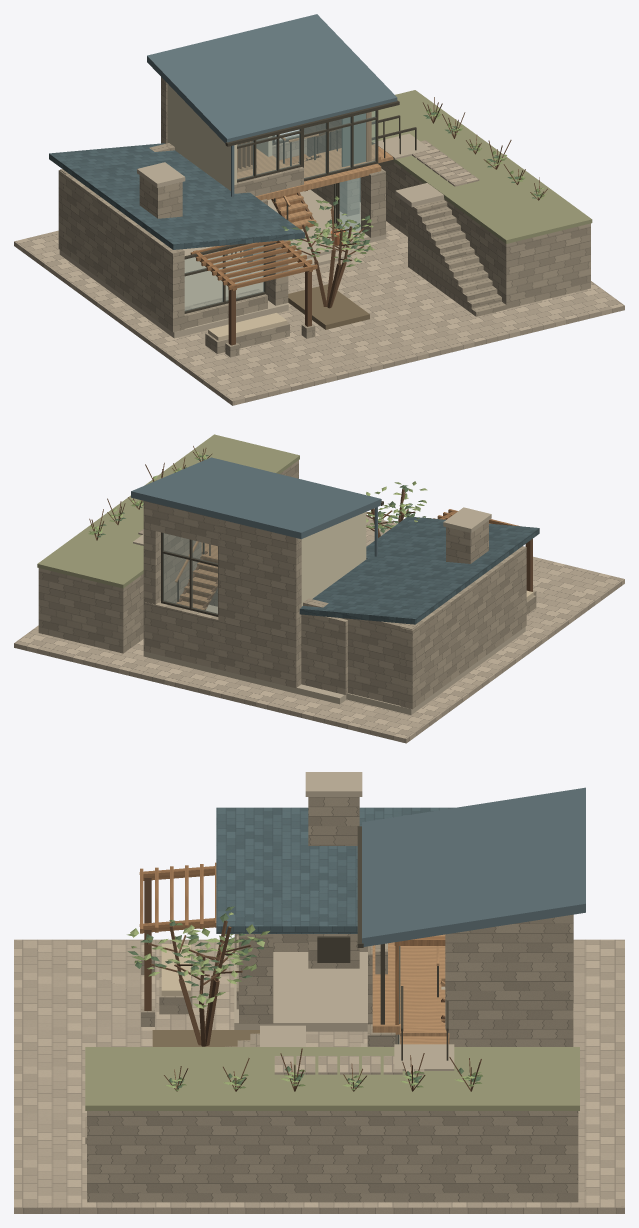
File: bridge-court_lod.glb
3 renders of one model, top to bottom at view 1: azimuth 30°, elevation 25°; view 2: azimuth 150°, elevation 25°; view 3: azimuth 270°, elevation 25°, orthographic. The views are drawn at different scales.
Parts seen in each view (by area): view 1: Valley floor.001, Upper roof.001, Reading room stone roof.001, East garden terrace.001, Western outer wall.001, East embankment.001, Bedroom west wall.001, Western lower wing.001, Gallery street window glass.001, Corner reading window glass.001, Loft glazing glass.001, Garden bed.001 (+24 smaller); view 2: Valley floor.001, North masonry spine.001, Reading room stone roof.001, Upper roof.001, Western outer wall.001, East garden terrace.001, East embankment.001, Private return.001, Landing window sill.001, Bedroom west wall.001, Landing daylight glass.001, Kitchen return.001 (+6 smaller); view 3: Valley floor.001, East embankment.001, Upper roof.001, East garden terrace.001, Reading room stone roof.001, Bedroom east wall.001, Western lower wing.001, Side chimney.001, Bridge hall floor.001, Western hearth pier.001, Bedroom floor.001, Landing flagstone.001 (+11 smaller).
Boxes of the visible parts, x1,y1,x2,y2 form: Valley floor.001: [14, 202, 624, 405]; Upper roof.001: [147, 14, 397, 143]; Reading room stone roof.001: [49, 143, 304, 249]; East garden terrace.001: [371, 90, 592, 243]; Western outer wall.001: [58, 170, 184, 332]; East embankment.001: [360, 162, 590, 308]; Bedroom west wall.001: [167, 83, 236, 190]; Western lower wing.001: [59, 247, 288, 338]; Gallery street window glass.001: [304, 111, 375, 178]; Corner reading window glass.001: [185, 245, 263, 310]; Loft glazing glass.001: [237, 129, 299, 179]; Garden bed.001: [288, 284, 369, 329]; Valley floor.001: [14, 516, 624, 743]; North masonry spine.001: [218, 519, 301, 688]; Reading room stone roof.001: [299, 517, 539, 624]; Upper roof.001: [131, 457, 381, 539]; Western outer wall.001: [400, 546, 526, 709]; East garden terrace.001: [37, 434, 299, 588]; East embankment.001: [38, 460, 298, 653]; Private return.001: [303, 598, 417, 705]; Landing window sill.001: [145, 601, 220, 669]; Bedroom west wall.001: [301, 512, 366, 606]; Landing daylight glass.001: [163, 533, 217, 613]; Kitchen return.001: [301, 614, 347, 694]; Valley floor.001: [14, 939, 624, 1213]; East embankment.001: [87, 1111, 578, 1202]; Upper roof.001: [362, 787, 585, 946]; East garden terrace.001: [85, 1047, 579, 1110]; Reading room stone roof.001: [216, 807, 454, 933]; Bedroom east wall.001: [445, 914, 573, 1046]; Western lower wing.001: [234, 945, 445, 1031]; Side chimney.001: [308, 797, 359, 968]; Bridge hall floor.001: [372, 978, 441, 1034]; Western hearth pier.001: [239, 934, 273, 1023]; Bedroom floor.001: [372, 934, 445, 986]; Landing flagstone.001: [394, 1044, 454, 1070].
Bounding box in the file's own units: 15.4 × 6.43 × 14.85.
Materials: 22 (5 with a texture image).
